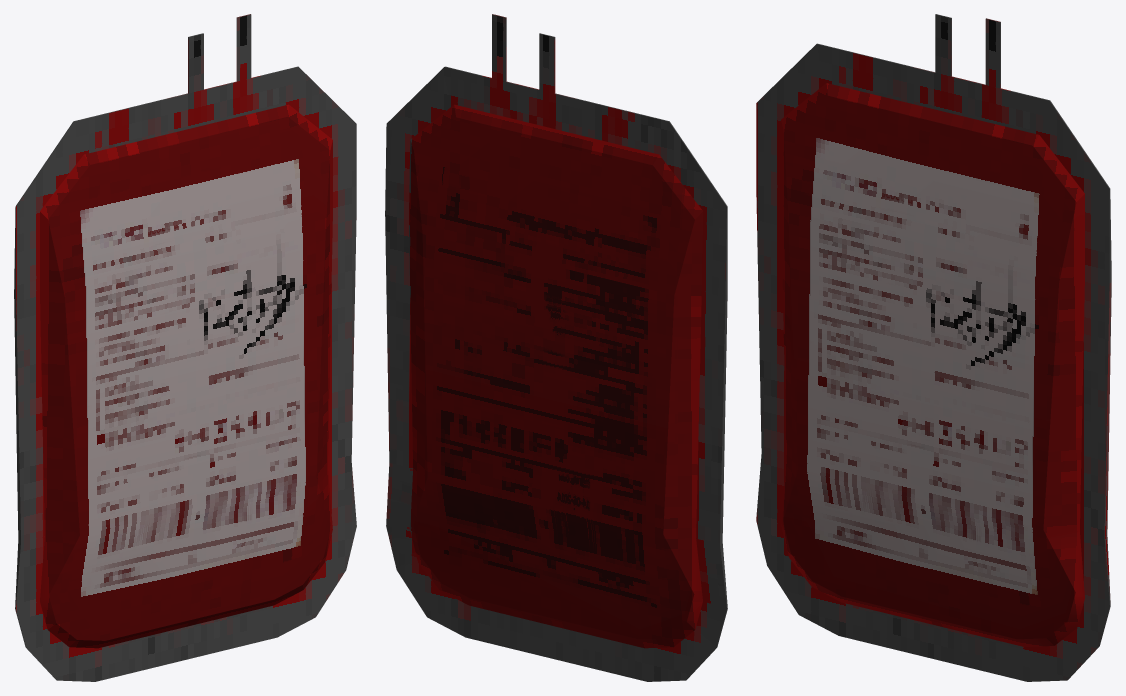
The model's file is Med_16.glb.
The picture shows the model from 3 angles, left to right: view 1: azimuth 30°, elevation 25°; view 2: azimuth 150°, elevation 25°; view 3: azimuth 330°, elevation 25°; orthographic projection. The views are drawn at different scales.
Visible parts, largest first — view 1: Med_16; view 2: Med_16; view 3: Med_16.
Part boxes in pixels (x1,y1,x2,y2): Med_16: (14,14,356,681); Med_16: (385,14,727,681); Med_16: (756,14,1111,681).
Size of the model in its own units: 14.36 by 25.32 by 1.73.
1 material, 1 textured.
